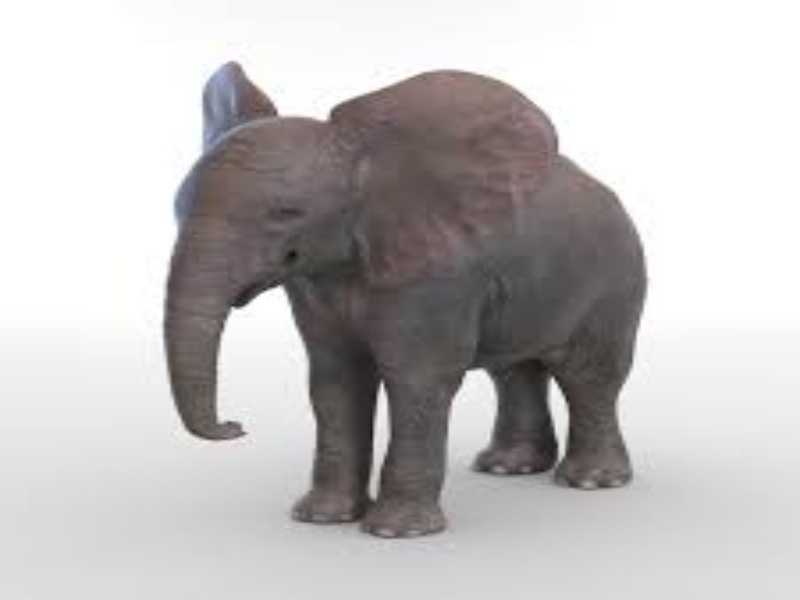elephant: (159, 36, 651, 542)
